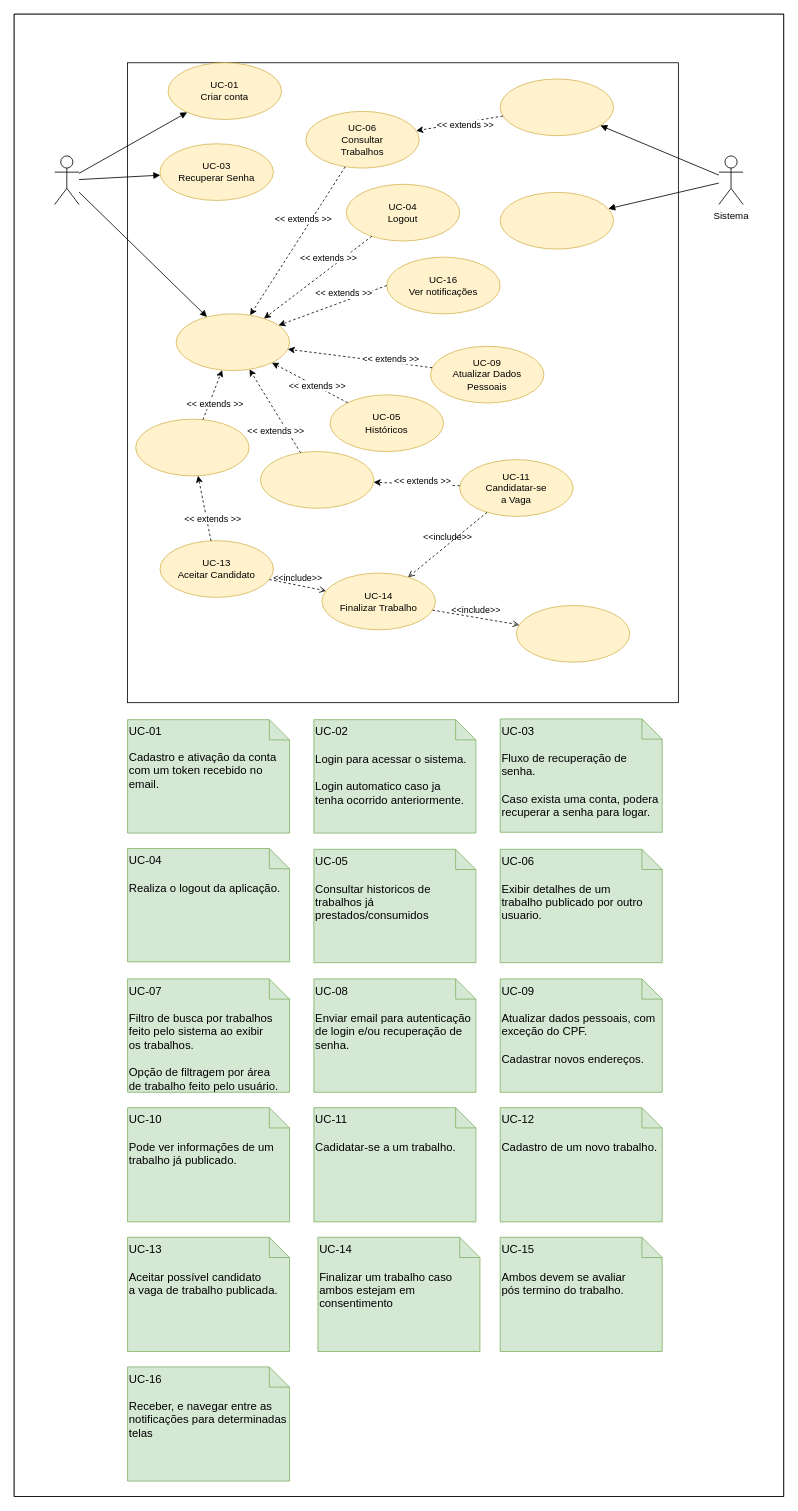
Some shapes in this 798 by 1511 pixel diagram are drawn without their labels. Each missing label, with the centre of its shape:
"Consumidr/Prestador" goes at point (66, 180).
"UC-02 Logar" goes at point (232, 342).
"UC-07 Filtro de busca" goes at point (556, 107).
"UC-08 Email de autenticação" goes at point (556, 220).
"UC-10 Ver Detalhes do Trabalho Publicado" goes at point (317, 479).
"UC-12 Cadastrar um Trabalho" goes at point (192, 447).
"UC-15 Avaliar Prestador/ Avaliar Consumidor" goes at point (573, 633).
